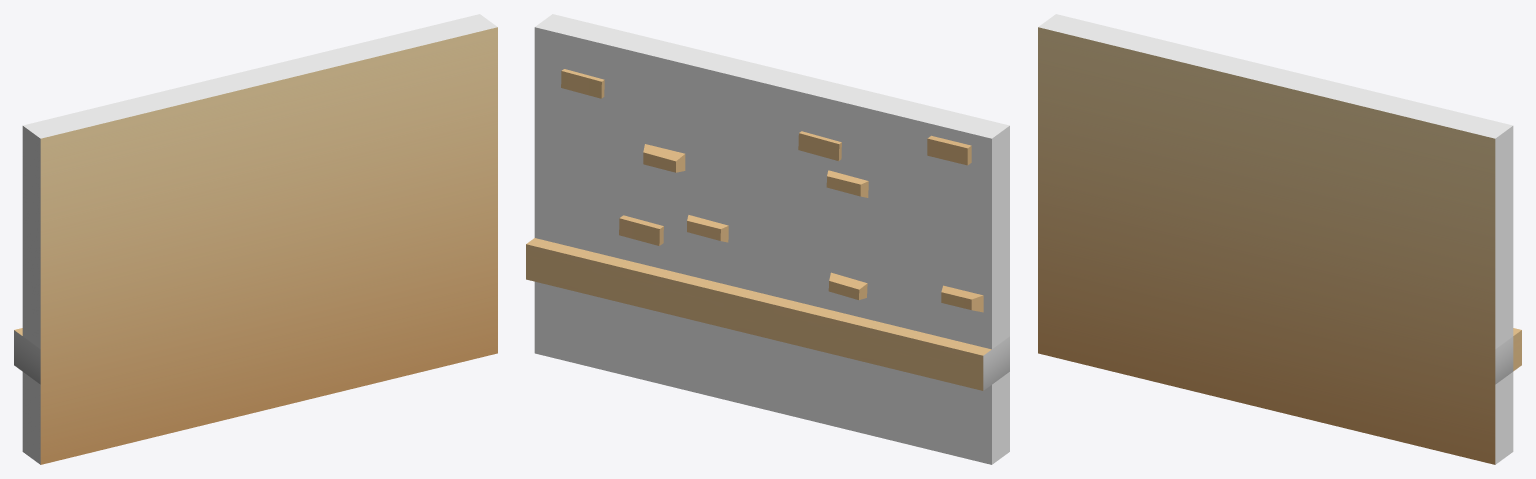
File: base_outer_wall.fbx
The picture shows the model from 3 angles, left to right: view 1: azimuth 30°, elevation 25°; view 2: azimuth 150°, elevation 25°; view 3: azimuth 330°, elevation 25°; orthographic projection.
Parts seen in each view (by area): view 1: base.outer.wall; view 2: base.outer.wall; view 3: base.outer.wall.
Part boxes in pixels (box(x1,y1,x2,y2)): base.outer.wall: box(14, 14, 497, 464); base.outer.wall: box(526, 14, 1009, 464); base.outer.wall: box(1038, 14, 1521, 464).
Size of the model in its own units: 440 by 300 by 44.35.
